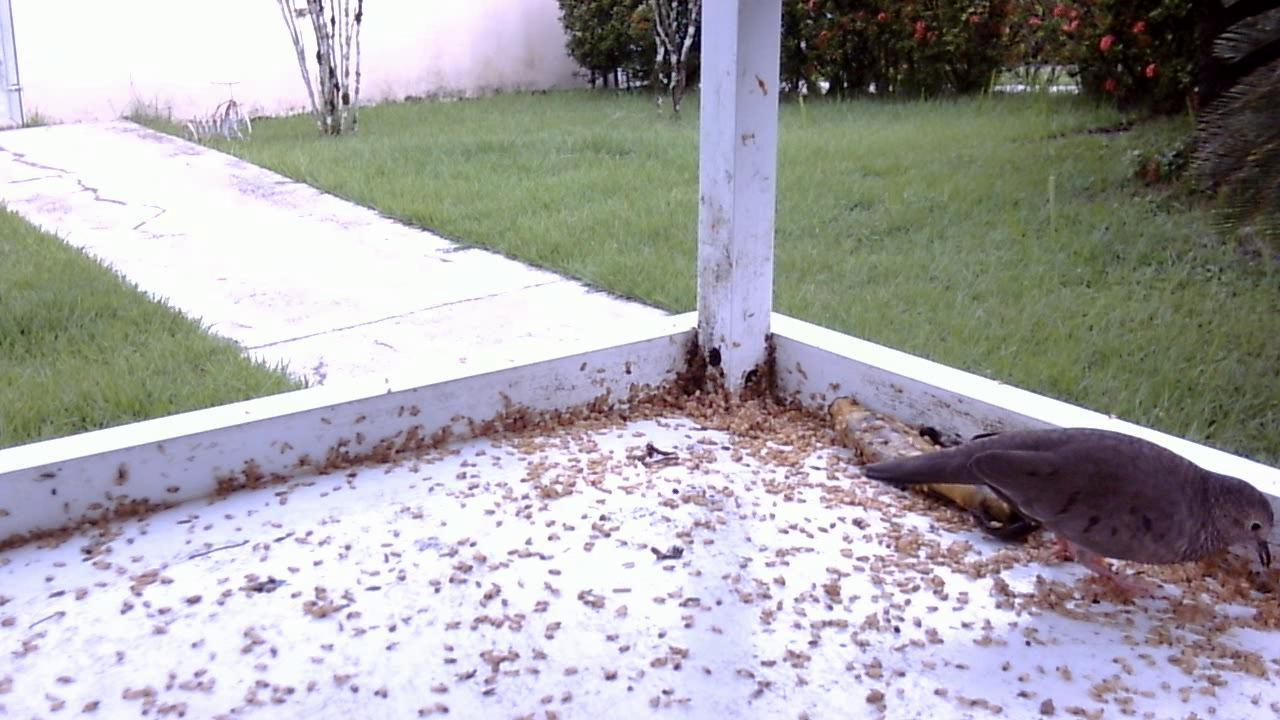rolinha: (855, 400, 1276, 604)
